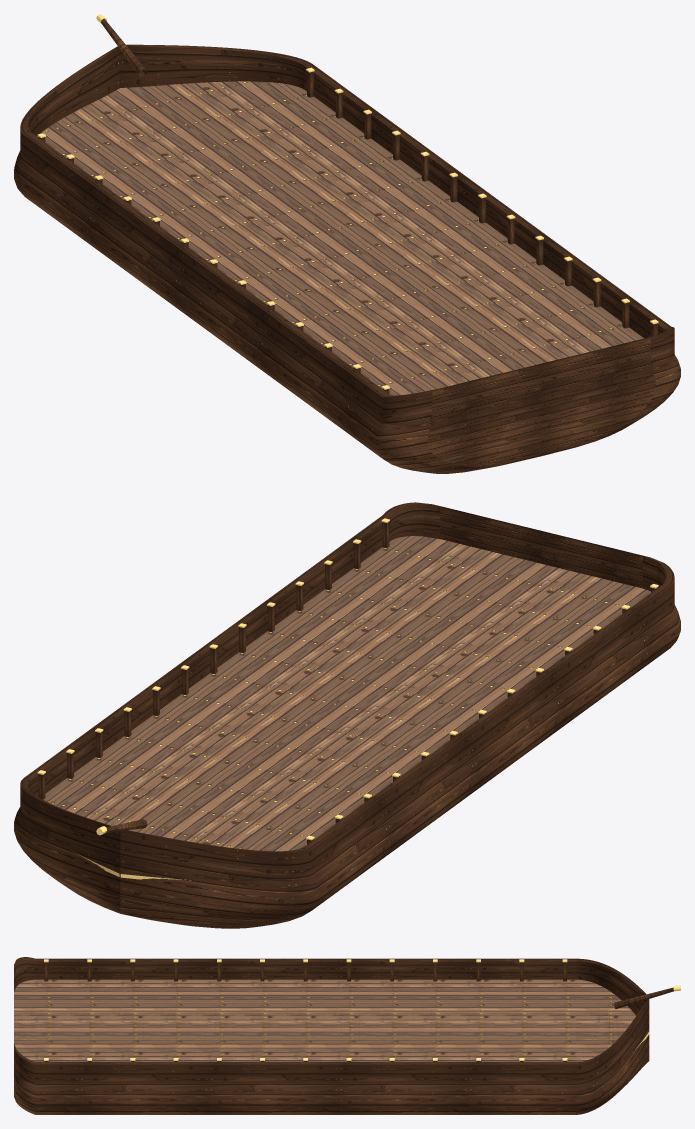
Rendered from ship-hull.glb.
3 renders of one model, top to bottom at view 1: azimuth 30°, elevation 25°; view 2: azimuth 150°, elevation 25°; view 3: azimuth 270°, elevation 25°, orthographic. The views are drawn at different scales.
Parts seen in each view (by area): view 1: ship-hull; view 2: ship-hull; view 3: ship-hull.
Boxes of the visible parts, x1,y1,x2,y2 form: ship-hull: [14, 14, 680, 473]; ship-hull: [14, 502, 680, 928]; ship-hull: [14, 957, 680, 1114].
Bounding box in the file's own units: 12.17 × 5.07 × 30.86.
4 materials, 3 textured.
